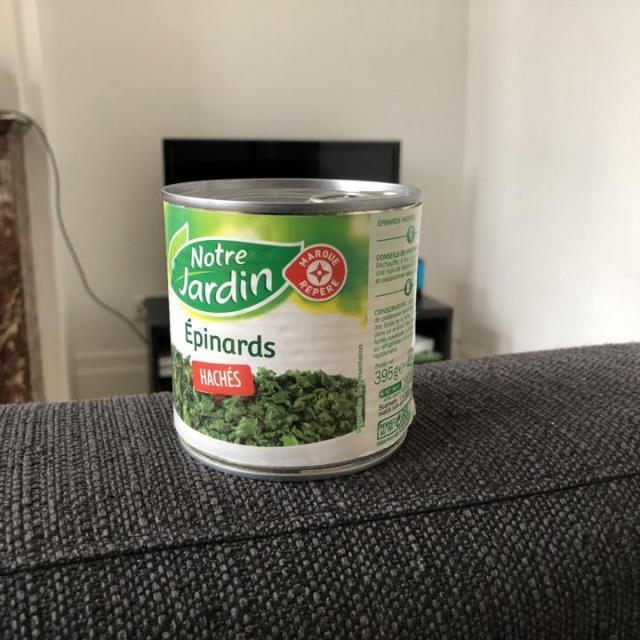recyclable: (144, 163, 454, 490)
